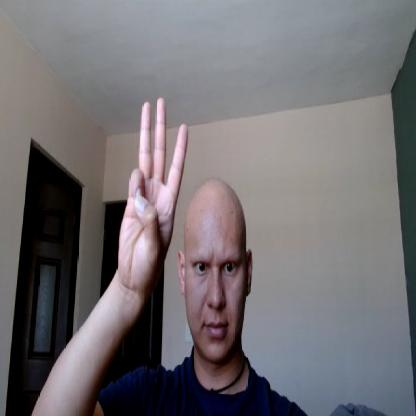W: (118, 97, 189, 281)
